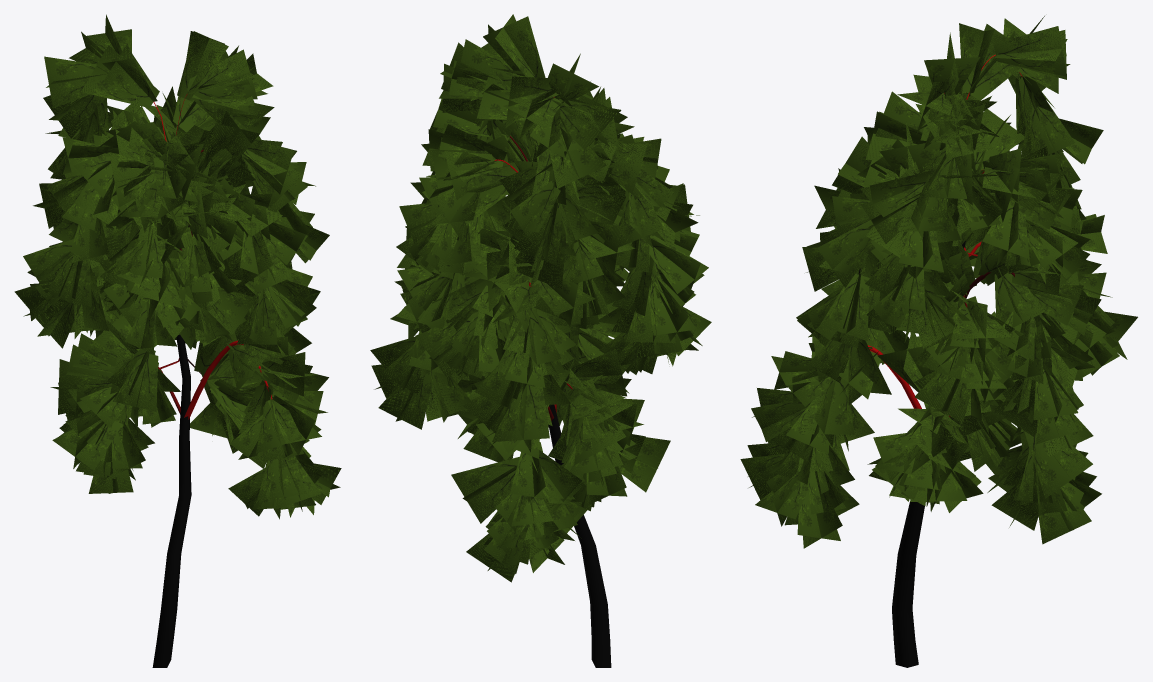
Rendered from birch 2 lod0.FBX.
The picture shows the model from 3 angles, left to right: view 1: azimuth 30°, elevation 25°; view 2: azimuth 150°, elevation 25°; view 3: azimuth 270°, elevation 25°; orthographic projection. The views are drawn at different scales.
Parts seen in each view (by area): view 1: Object001; view 2: Object001; view 3: Object001.
Part boxes in pixels (left/top/right/bottom): Object001: left=14, top=14, right=341, bottom=667; Object001: left=370, top=14, right=711, bottom=667; Object001: left=740, top=16, right=1137, bottom=667.
Size of the model in its own units: 52464 by 111938 by 61177.
